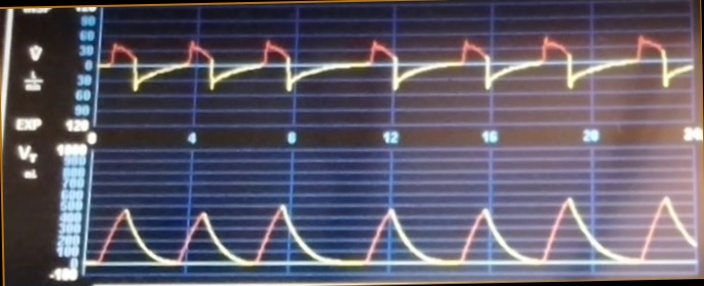Normal Flow: (102, 14, 692, 111)
Normal Volume: (91, 180, 695, 273)
